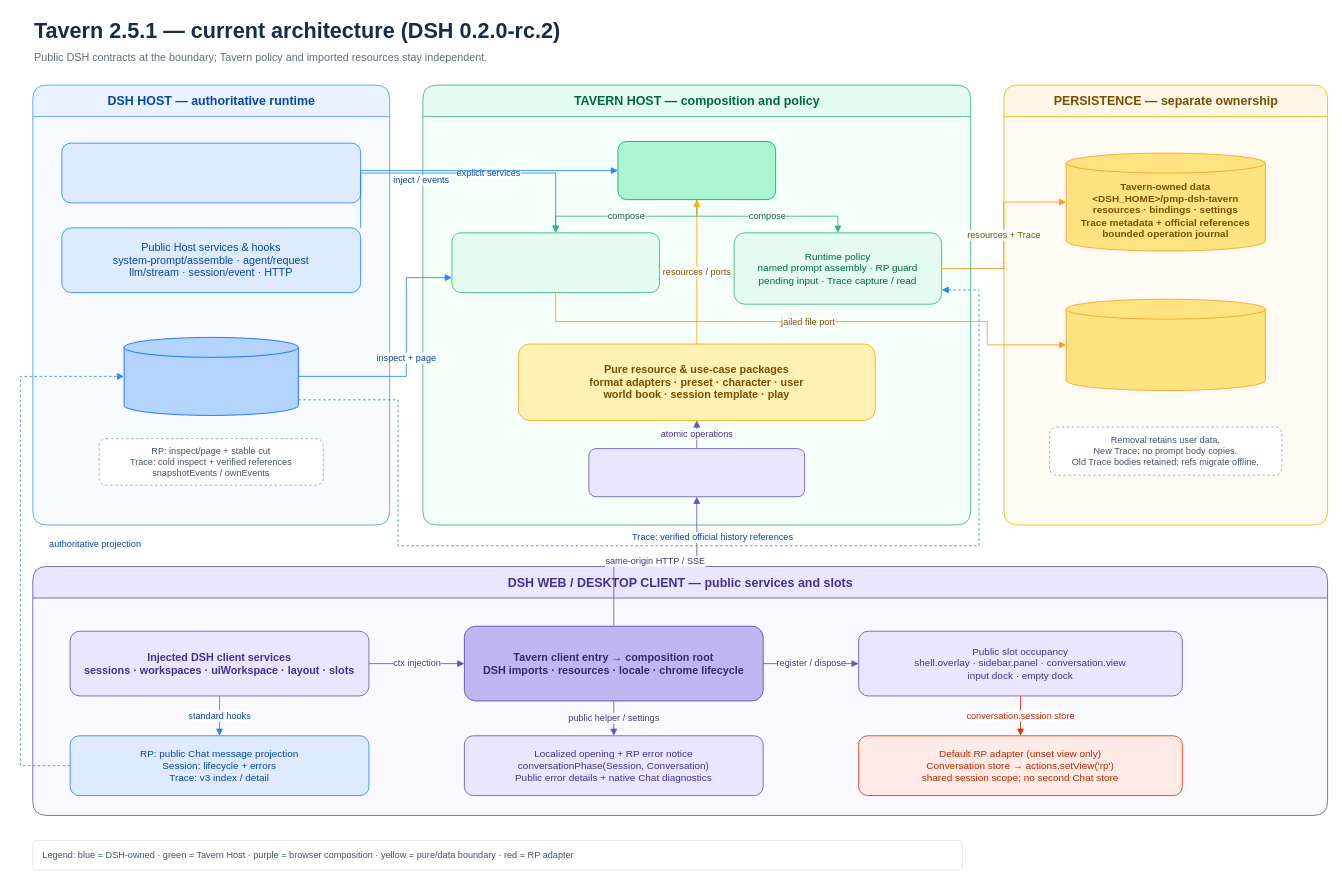
Some shapes in this 1342 by 885 pixel diagram are drawn without their labels. Here are the shapes that lost their labels. From the top down, the centre of each, then its label:
At (x=211, y=172): "Public controllers session · workspace · directory picker".
At (x=696, y=170): "tavern-loader composition root".
At (x=555, y=262): "Play Host adapter Tavern port ↔ DSH controllers".
At (x=1165, y=344): "Play workspace files catalog · timelines · imports user-selected workspace root".
At (x=210, y=376): "DSH Session history authoritative events + prompt bodies".
At (x=696, y=472): "Tavern API v1 resources · v2 RP · v3 Trace same-origin HTTP / SSE".
